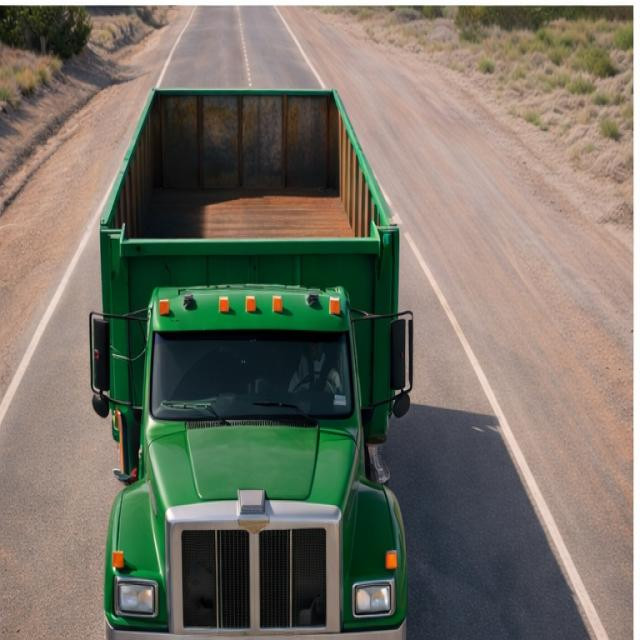Box: (99, 78, 410, 275)
Truck: (61, 55, 443, 630)
